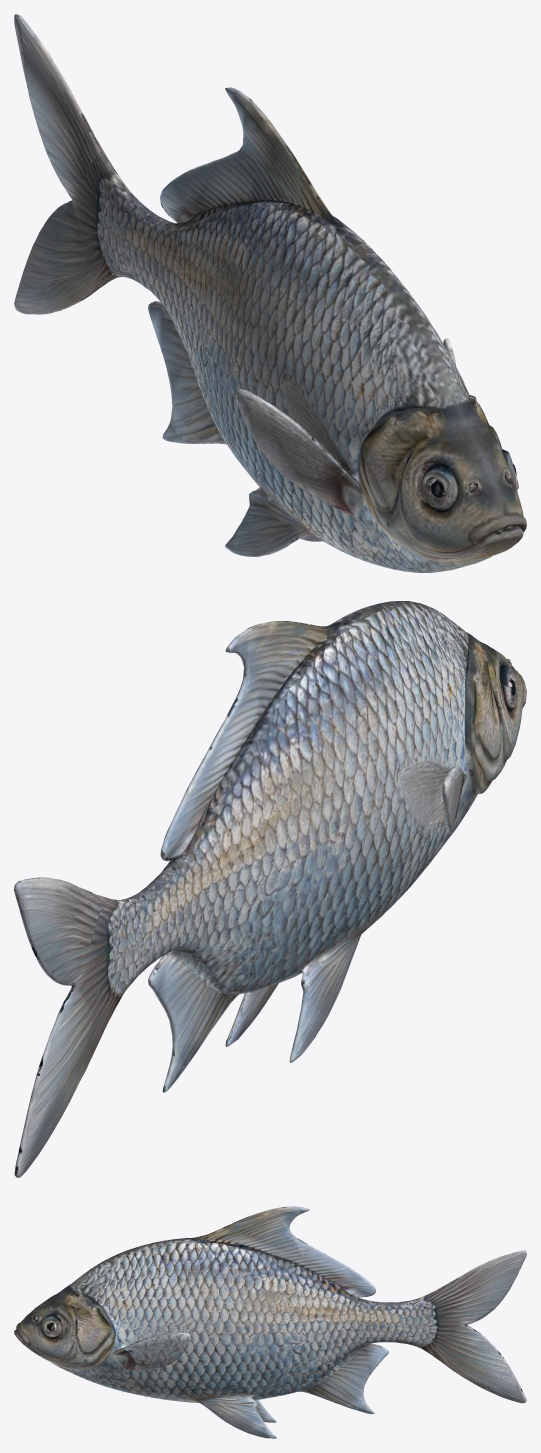
The model's file is bream.glb.
3 views of the same model, one above another, from view 1: azimuth 30°, elevation 25°; view 2: azimuth 150°, elevation 25°; view 3: azimuth 270°, elevation 25° (orthographic). The views are drawn at different scales.
Visible parts, largest first — view 1: bream; view 2: bream; view 3: bream.
Part boxes in pixels (x1,y1,x2,y2): bream: (14,14,526,572); bream: (14,601,526,1177); bream: (14,1206,526,1438).
Size of the model in its own units: 0.2461 by 0.4823 by 1.
Materials: 1 (1 with a texture image).
